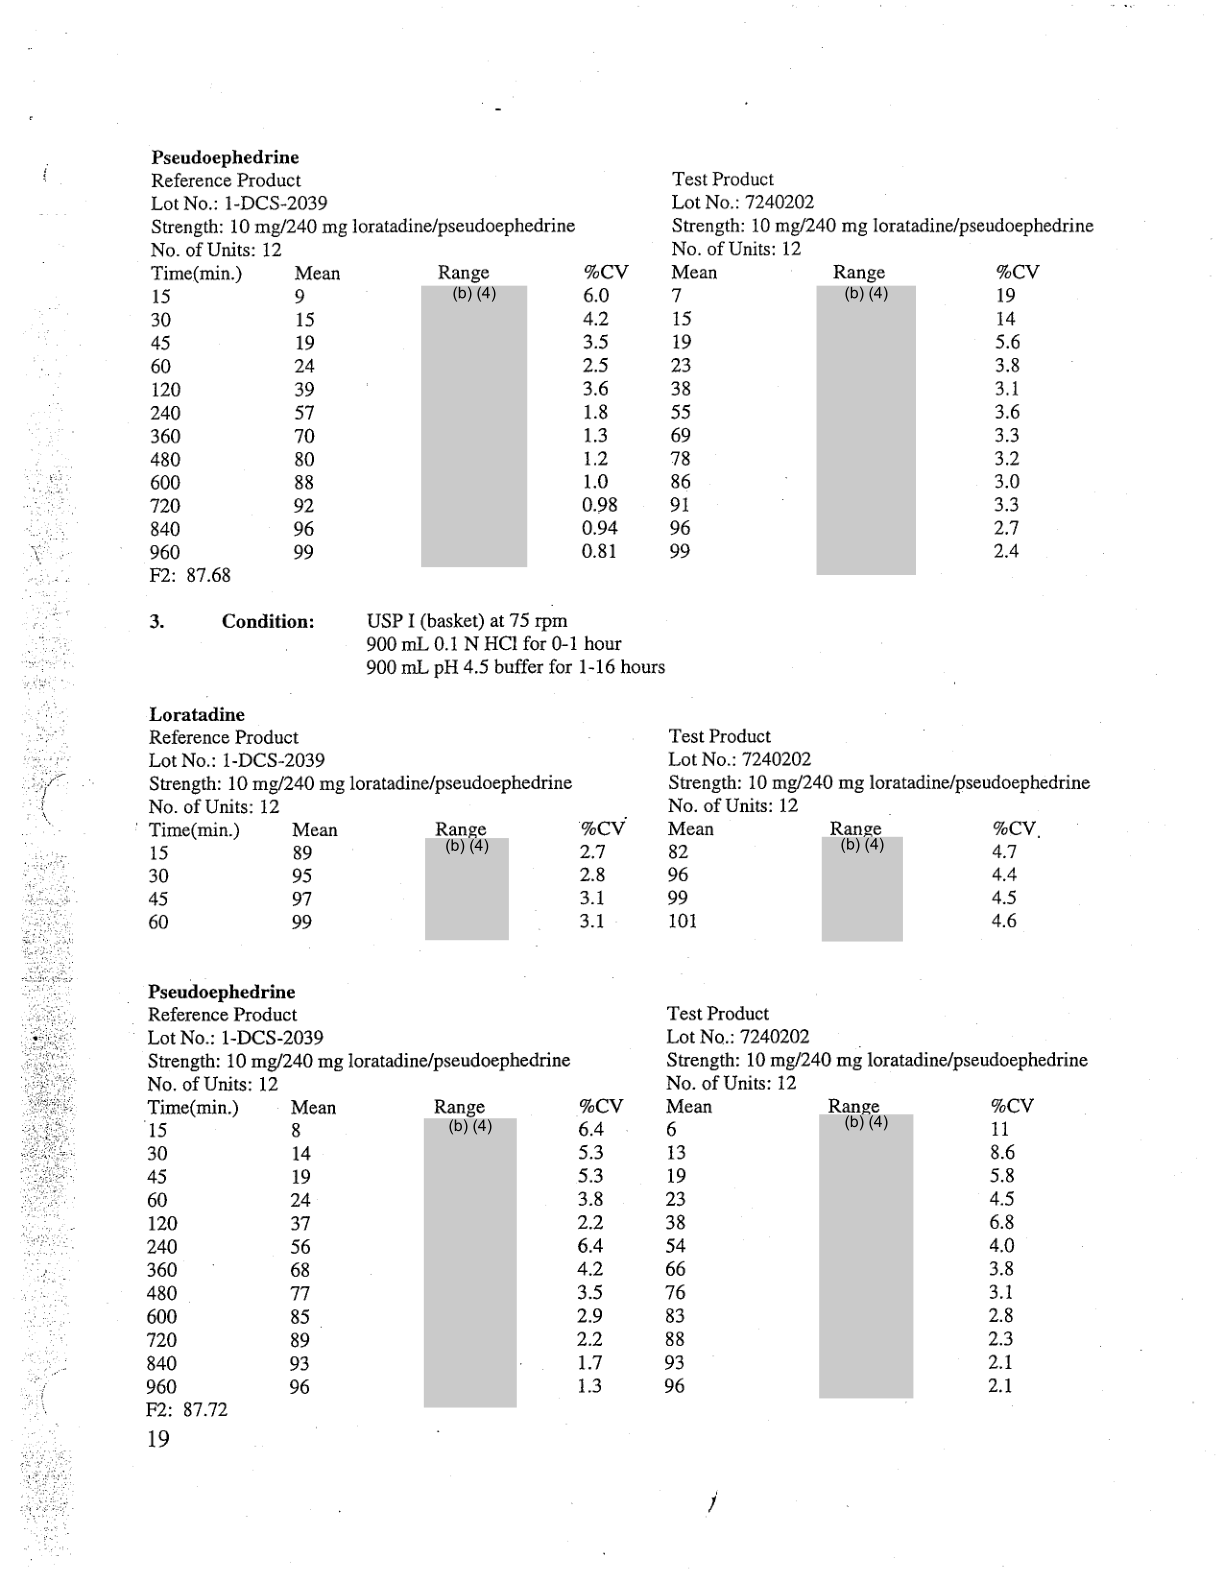nolines: (149, 171, 1096, 586), (146, 1005, 1090, 1418), (146, 728, 1090, 944)
